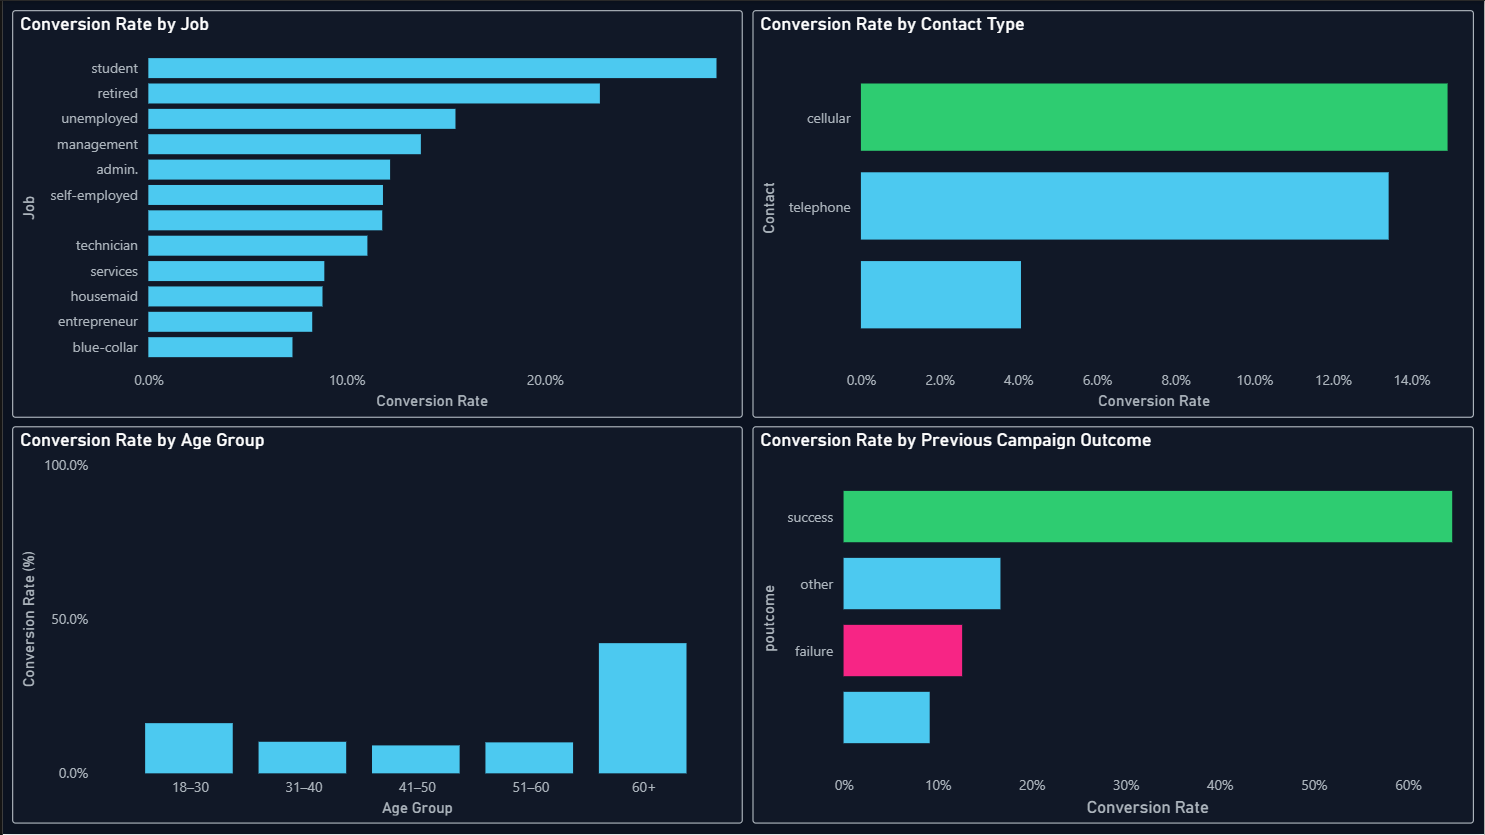

This screenshot's page, from the dashboard's own definition file:
{"tool":"powerbi","page":{"name":"Conversion Drivers & Segments","canvas":[1280,720],"ordinal":1},"visuals":[{"type":"clusteredBarChart","title":"Conversion Rate by Job","fields":{"Category":["bank_marketing_cleaned.job"],"Y":["bank_marketing_cleaned.Conversion Rate (%)"]},"box":[8,8,632,352],"z":0},{"type":"clusteredBarChart","title":"Conversion Rate by Contact Type","fields":{"Y":["bank_marketing_cleaned.Conversion Rate (%)"],"Category":["bank_marketing_cleaned.contact"]},"box":[648,8,624,352],"z":1000},{"type":"columnChart","title":"Conversion Rate by Age Group","fields":{"Category":["bank_marketing_cleaned.Age Group"],"Y":["bank_marketing_cleaned.Conversion Rate (%)"]},"box":[8,368,632,344],"z":2000},{"type":"clusteredBarChart","title":"Conversion Rate by Previous Campaign Outcome","fields":{"Category":["bank_marketing_cleaned.poutcome"],"Y":["bank_marketing_cleaned.Conversion Rate (%)"]},"box":[648,368,624,344],"z":3000}]}

Visuals, with their boxes in screenshot pixels (x1, y1, x2, y2), scaled from the page's 1280x720 canvas onto the 1485x835 screenshot:
"Conversion Rate by Job" clusteredBarChart: pyautogui.locateOnScreen(9, 9, 742, 418)
"Conversion Rate by Contact Type" clusteredBarChart: pyautogui.locateOnScreen(752, 9, 1476, 418)
"Conversion Rate by Age Group" columnChart: pyautogui.locateOnScreen(9, 427, 742, 826)
"Conversion Rate by Previous Campaign Outcome" clusteredBarChart: pyautogui.locateOnScreen(752, 427, 1476, 826)
